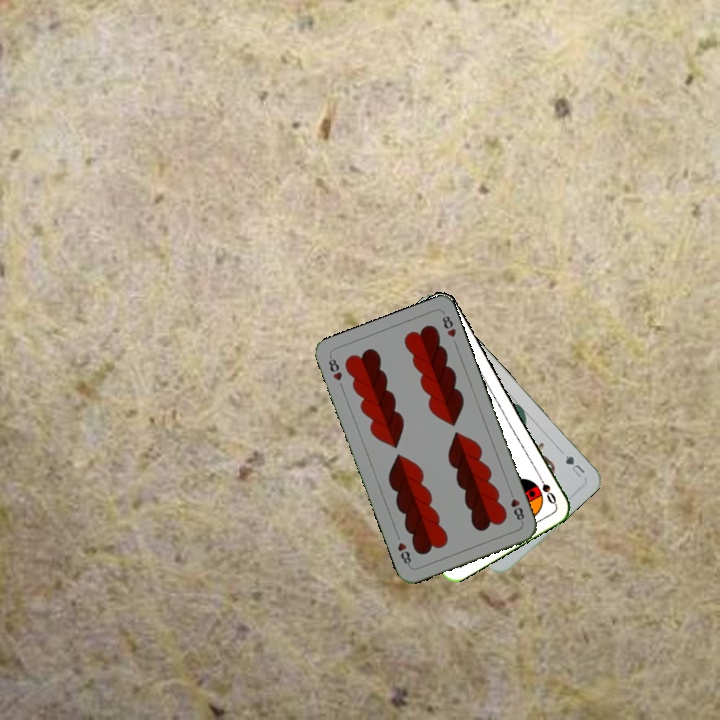GU: (561, 451, 588, 480)
H8: (505, 486, 527, 525), (324, 353, 345, 383)
SO: (534, 470, 559, 507)
